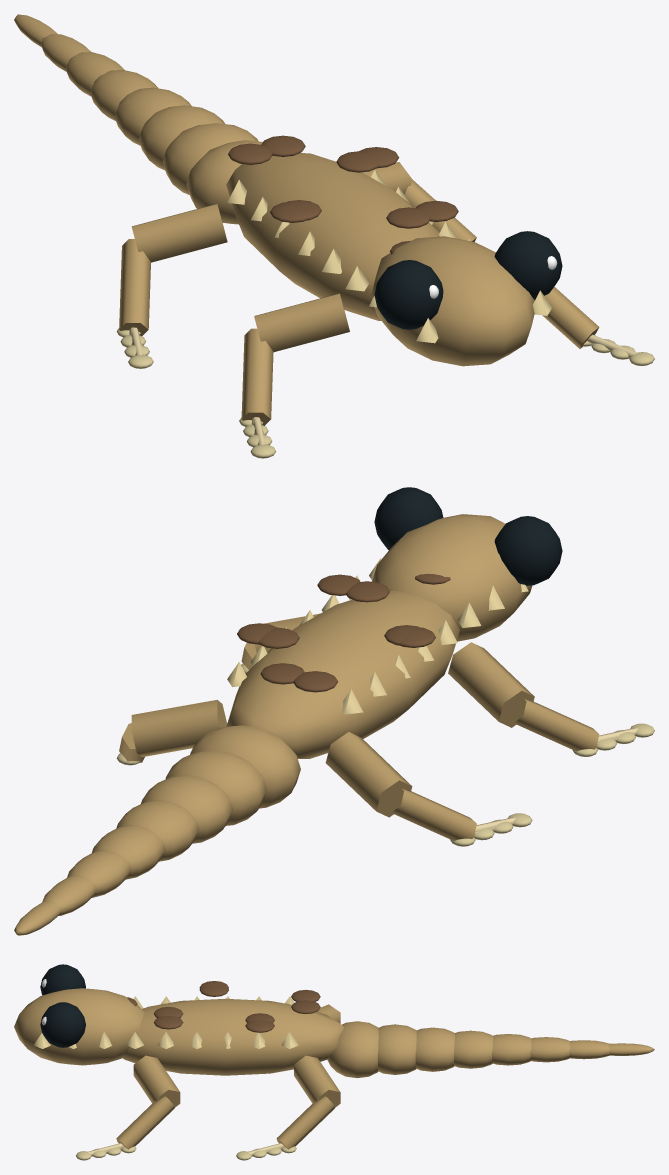
The model's file is crested.glb.
3 renders of one model, top to bottom at view 1: azimuth 30°, elevation 25°; view 2: azimuth 150°, elevation 25°; view 3: azimuth 270°, elevation 25°, orthographic. The views are drawn at different scales.
Visible parts, largest first — view 1: skin (×17), eye (×2), accent (×5); view 2: skin (×15), eye (×2), accent (×5); view 3: skin (×14), eye (×2), accent (×3).
Boxes of the visible parts, x1,y1,x2,y2 form: skin (×17): [14, 14, 599, 425]; eye (×2): [374, 231, 562, 329]; accent (×5): [228, 135, 458, 228]; skin (×15): [14, 514, 599, 935]; eye (×2): [374, 487, 562, 585]; accent (×5): [258, 574, 389, 692]; skin (×14): [14, 988, 654, 1149]; eye (×2): [40, 964, 85, 1047]; accent (×3): [154, 1000, 320, 1032].
Size of the model in its own units: 2.65 by 1.09 by 5.6.
